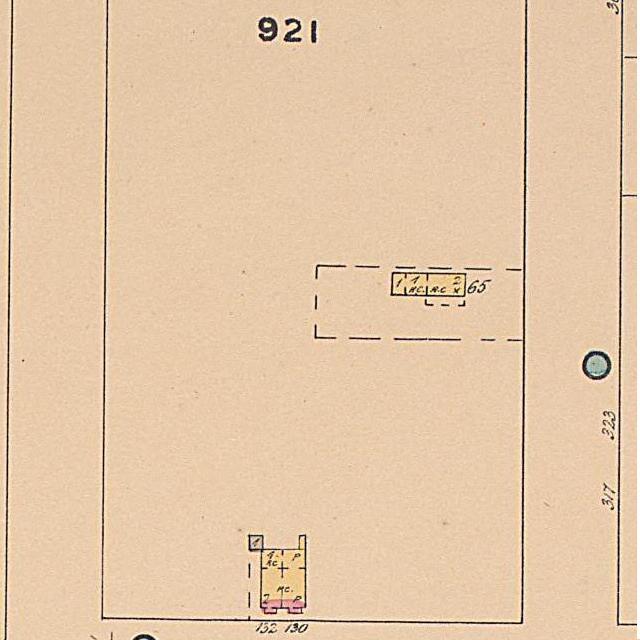building-footprints: (261, 535, 306, 613), (392, 273, 465, 297), (249, 535, 263, 550)
